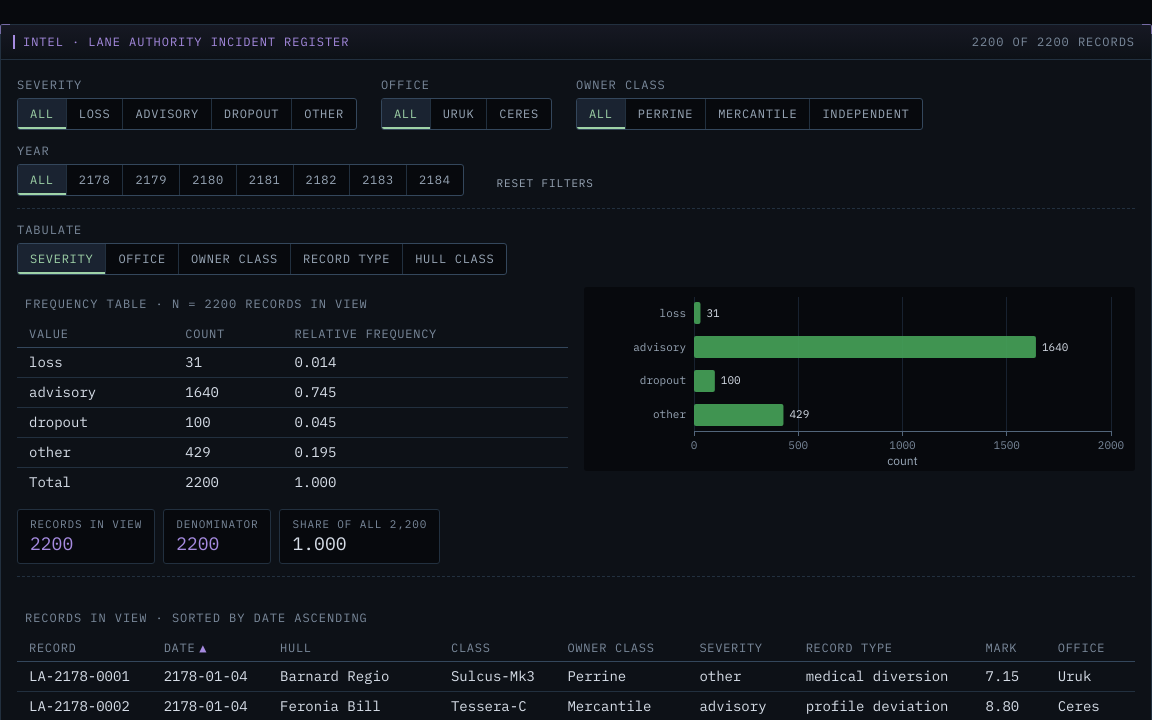
Test: <RegisterBrowser> › shows all 2200 records, then fewer after filtering to losses
Check: the text "2200 OF 2200 RECORDS" is shown, box [972,33,1135,51]
Click the radio button labelled "loss".
click(95, 114)  # box [67,99,124,129]
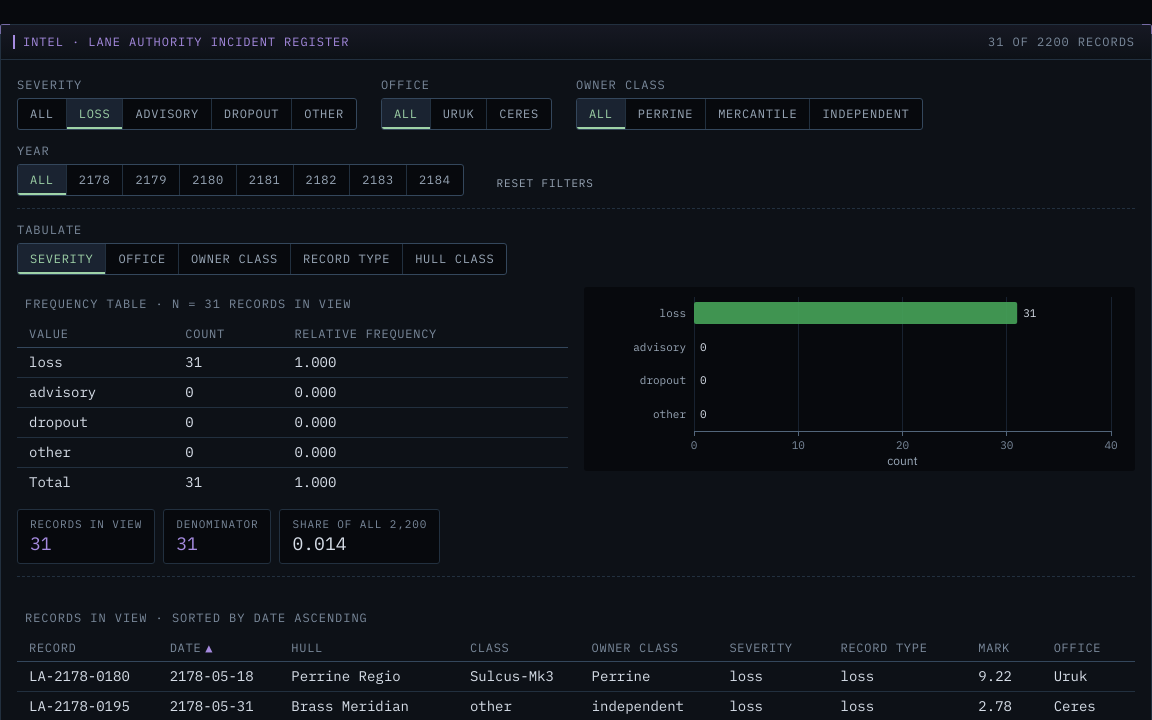
Click the button "RESET FILTERS".
click(545, 183)  # box [488,170,603,196]
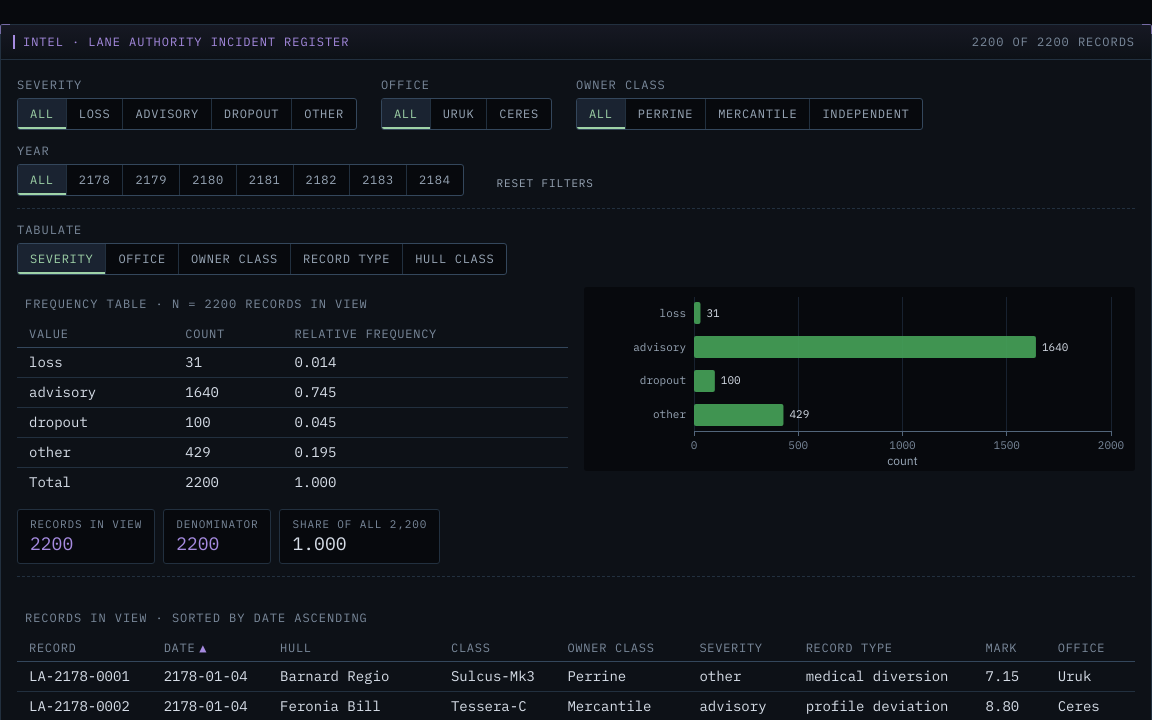
Check: the text "2200 OF 2200 RECORDS" is shown, box [972,33,1135,51]
